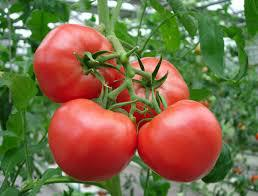tomato: (48, 98, 137, 181), (140, 98, 222, 182), (33, 24, 114, 103), (115, 57, 190, 122)
